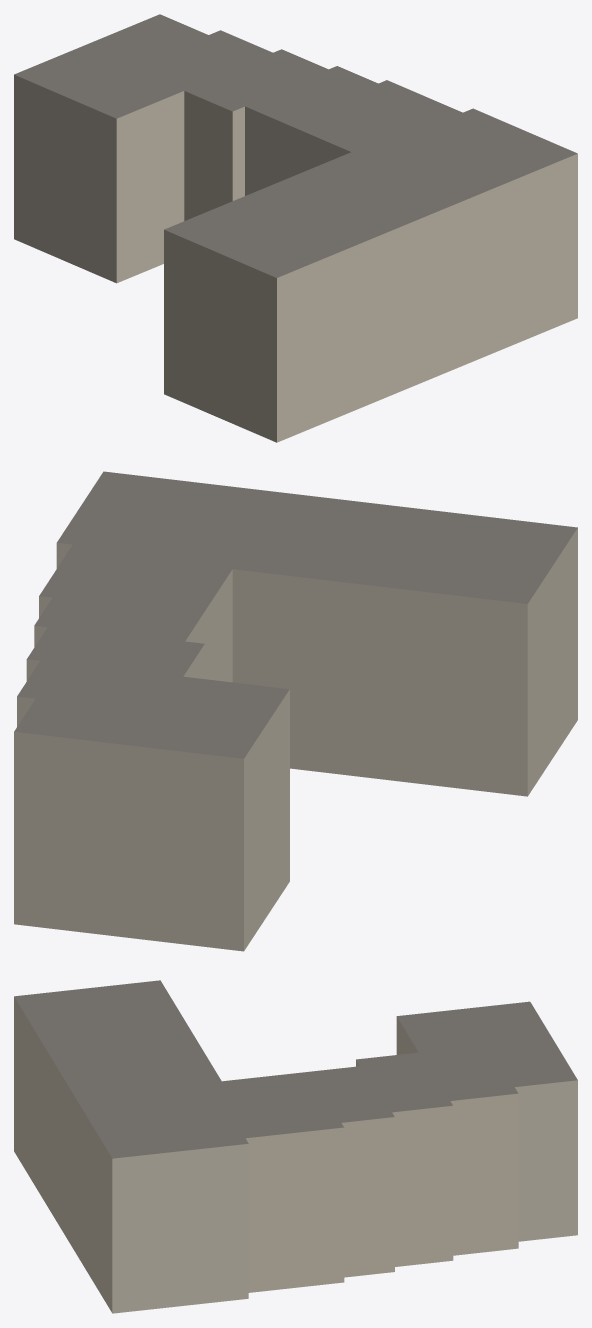
3 views of the same model, one above another, from view 1: azimuth 30°, elevation 25°; view 2: azimuth 150°, elevation 25°; view 3: azimuth 270°, elevation 25° (orthographic). The views are drawn at different scales.
Visible parts, largest first — view 1: HP-w299010063; view 2: HP-w299010063; view 3: HP-w299010063.
Boxes of the visible parts, bbox=[...] form: HP-w299010063: bbox=[14, 14, 577, 442]; HP-w299010063: bbox=[14, 471, 577, 951]; HP-w299010063: bbox=[14, 980, 577, 1313].
Bounding box in the file's own units: 44.42 × 18 × 59.36.
